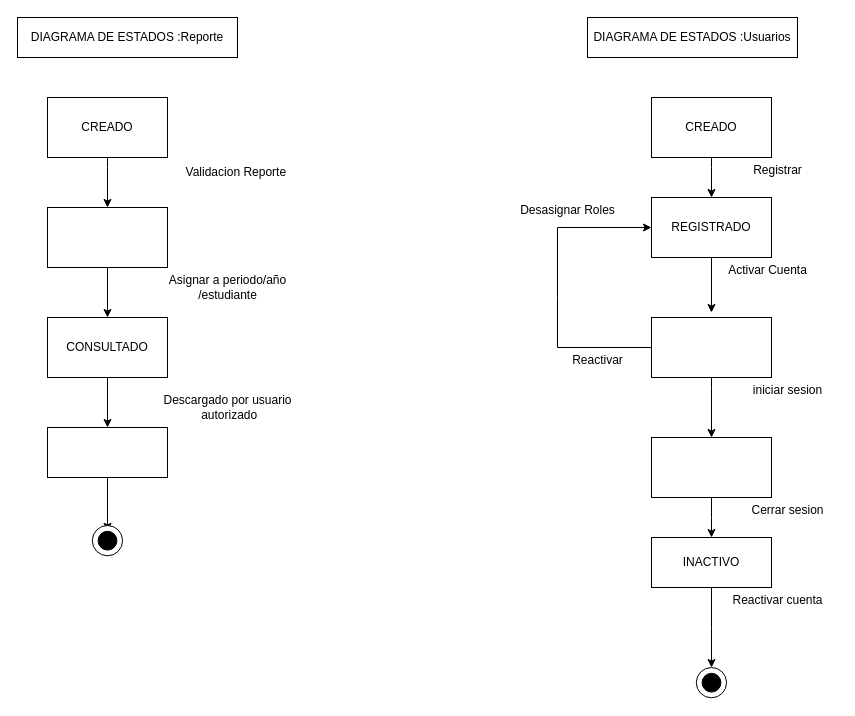
Some shapes in this 855 by 716 pixel diagram are drawn without their labels. The centre of each missing label's shape, as x and y in pixels:
"ACTIVO" goes at (711,347).
"AUTENTICADO" goes at (711,467).
"DESCARGADO" goes at (107,452).
"VALIDADO" goes at (107,237).
